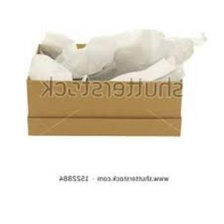book: (21, 39, 188, 141)
tissue: (20, 19, 216, 90)
